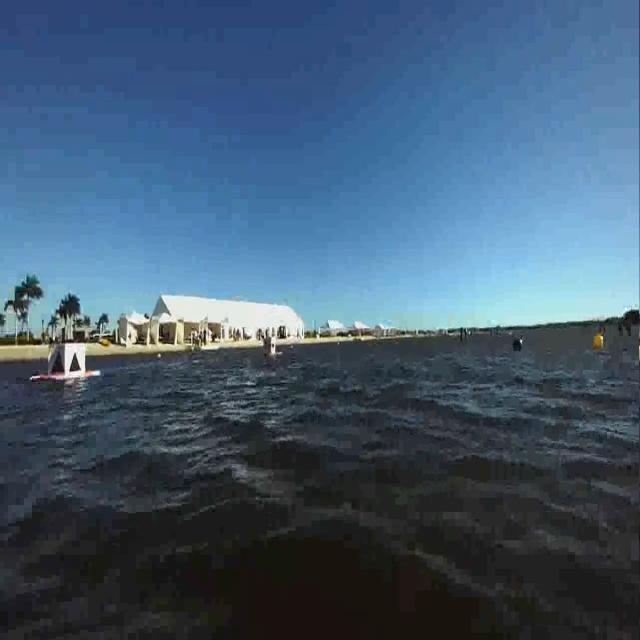black-buoy: (511, 338, 522, 353)
yellow-buoy: (594, 334, 605, 349)
